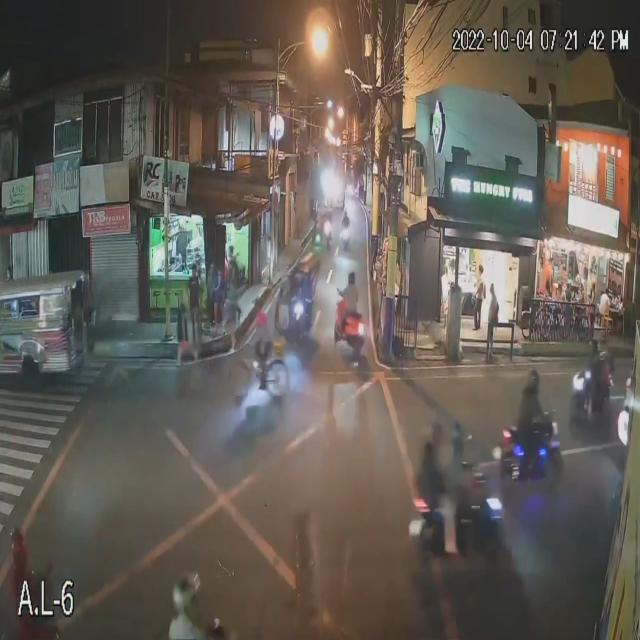Full-Faced: (172, 566, 205, 626), (3, 524, 30, 569), (449, 416, 469, 459), (523, 368, 542, 393), (432, 424, 447, 451), (347, 269, 358, 287)
